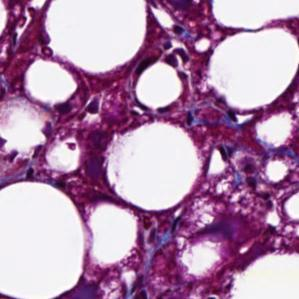inflammation: (215, 145, 267, 205), (155, 38, 194, 71)
